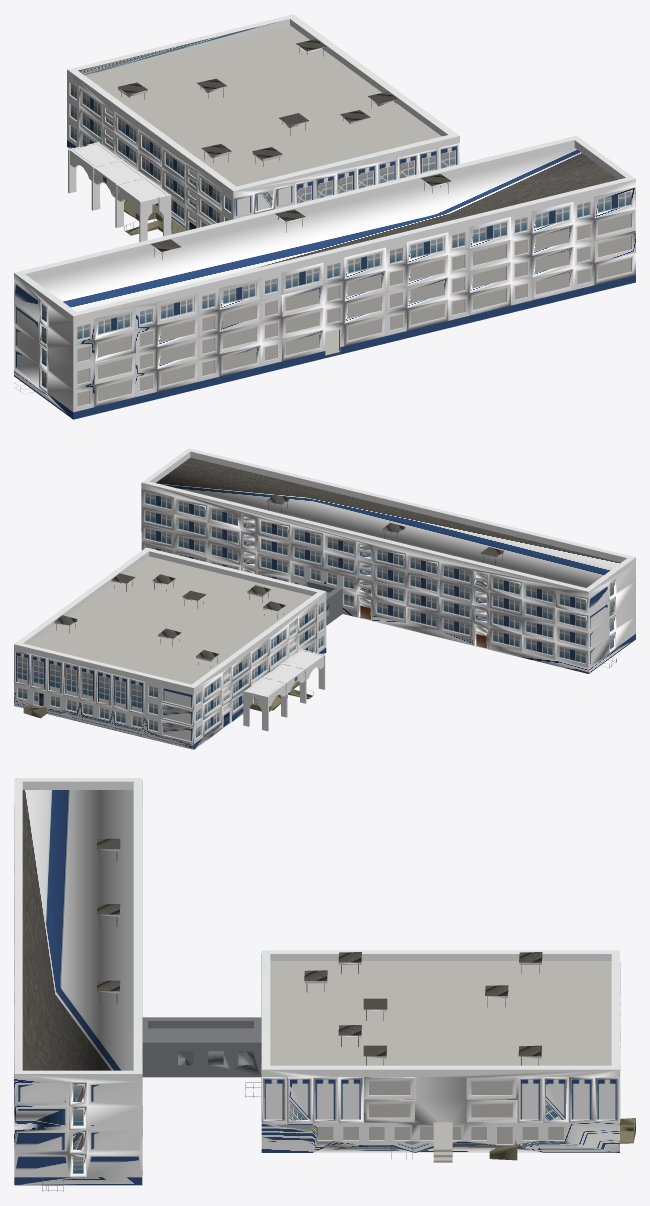
File: school.zfix-v14.lod0.glb
The picture shows the model from 3 angles, top to bottom: view 1: azimuth 30°, elevation 25°; view 2: azimuth 150°, elevation 25°; view 3: azimuth 270°, elevation 25°; orthographic projection. The views are drawn at different scales.
Parts seen in each view (by area): view 1: Object_4, Object_3, Object_7, Object_10, Object_9; view 2: Object_4, Object_7, Object_3, Object_10, Object_9; view 3: Object_4, Object_3, Object_7, Object_9.
Boxes of the visible parts, x1=… form: Object_4: x1=14, y1=135, x2=635, y2=419; Object_3: x1=77, y1=25, x2=631, y2=406; Object_7: x1=67, y1=14, x2=459, y2=230; Object_10: x1=68, y1=142, x2=171, y2=242; Object_9: x1=118, y1=39, x2=451, y2=259; Object_4: x1=141, y1=448, x2=635, y2=673; Object_7: x1=14, y1=547, x2=326, y2=749; Object_3: x1=23, y1=500, x2=504, y2=718; Object_10: x1=243, y1=649, x2=325, y2=731; Object_9: x1=55, y1=494, x2=503, y2=667; Object_4: x1=14, y1=778, x2=142, y2=1185; Object_3: x1=99, y1=849, x2=635, y2=1162; Object_7: x1=261, y1=950, x2=620, y2=1152; Object_9: x1=96, y1=838, x2=542, y2=1065.
Bounding box in the file's own units: 61.91 × 10.99 × 52.63.
Materials: 6 (4 with a texture image).
